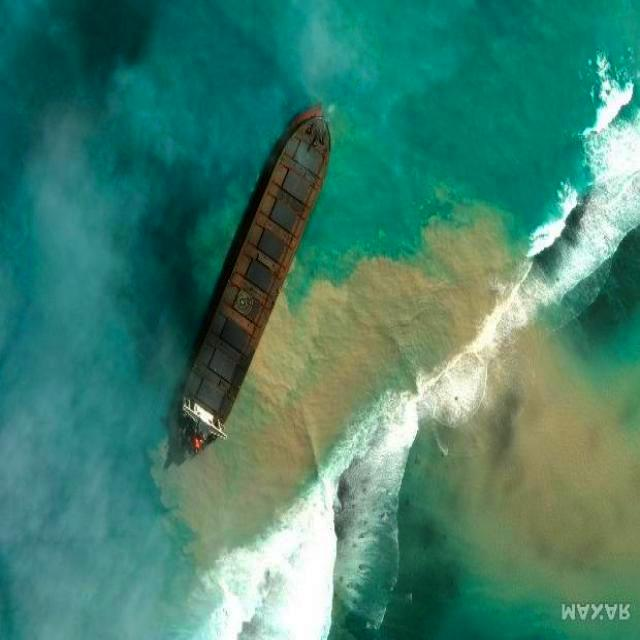oil: (2, 0, 197, 323)
